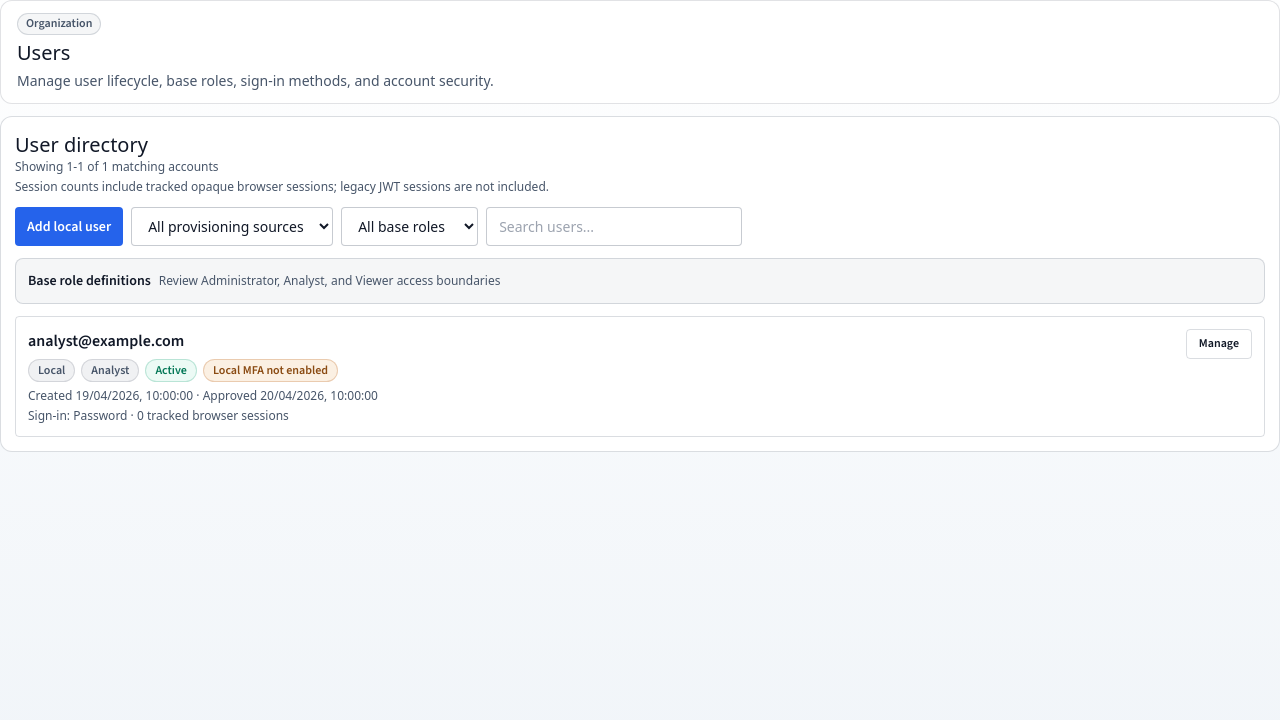
UsersPage DOM workflows › shows the stable user ID only in account details and makes it copyable
Click the button "Manage". click: (1219, 344)
box: x1=1186 y1=329 x2=1252 y2=359
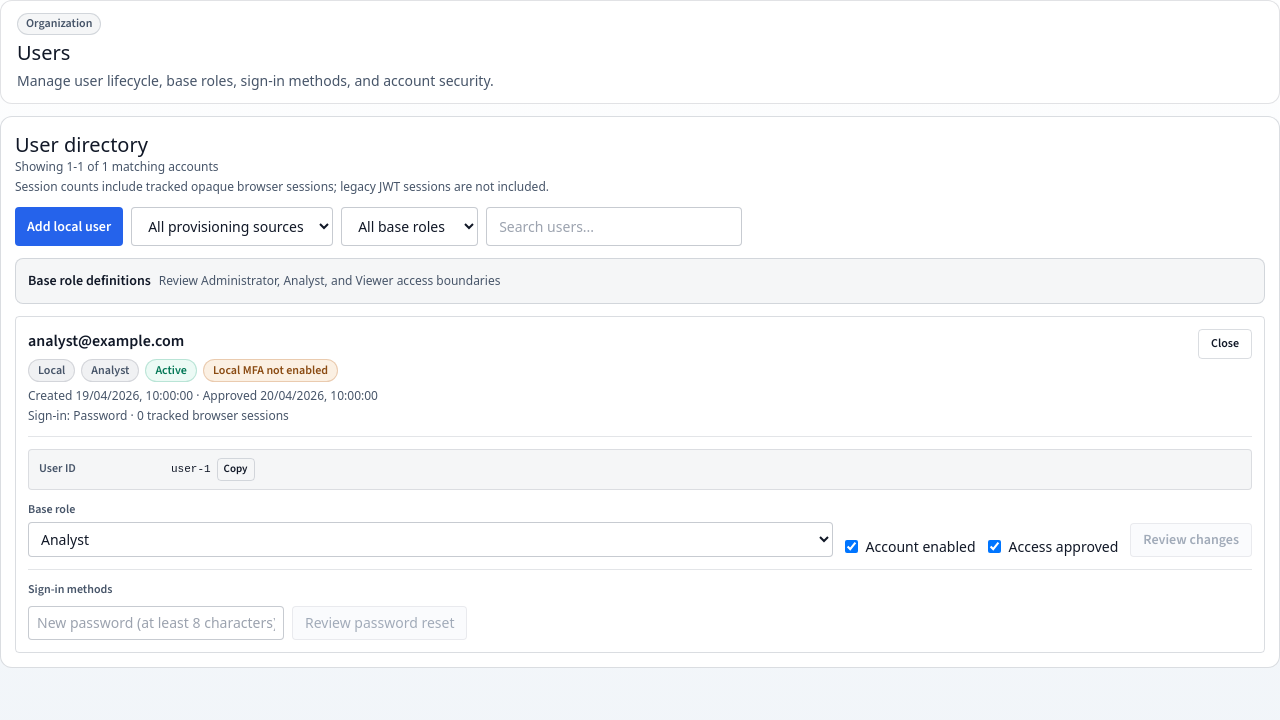
Expected: the text "User ID" is shown, x1=39 y1=460 x2=76 y2=477
Expected: the text "user-1" is shown, x1=171 y1=461 x2=211 y2=478
Expected: the button "Copy" is shown
Click the button "Copy". click: (236, 469)
box: x1=217 y1=458 x2=255 y2=480
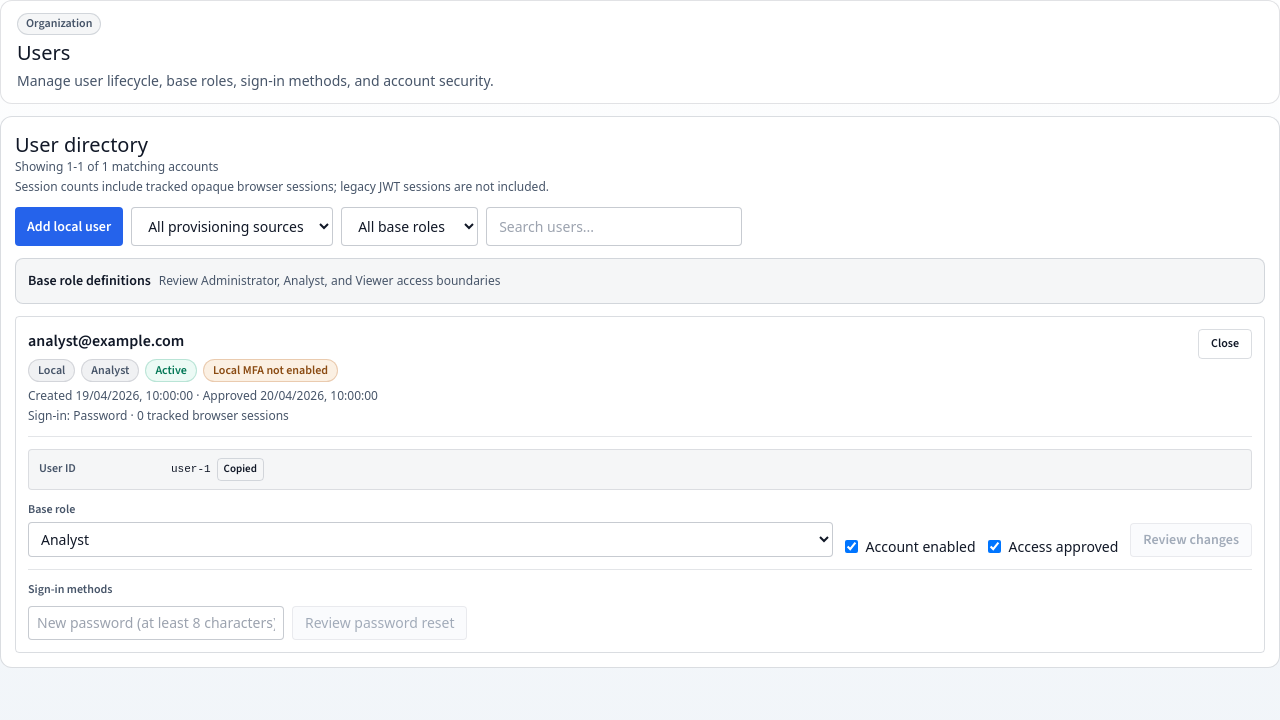
Expected: the button "Copied" is shown, x1=217 y1=458 x2=264 y2=480
